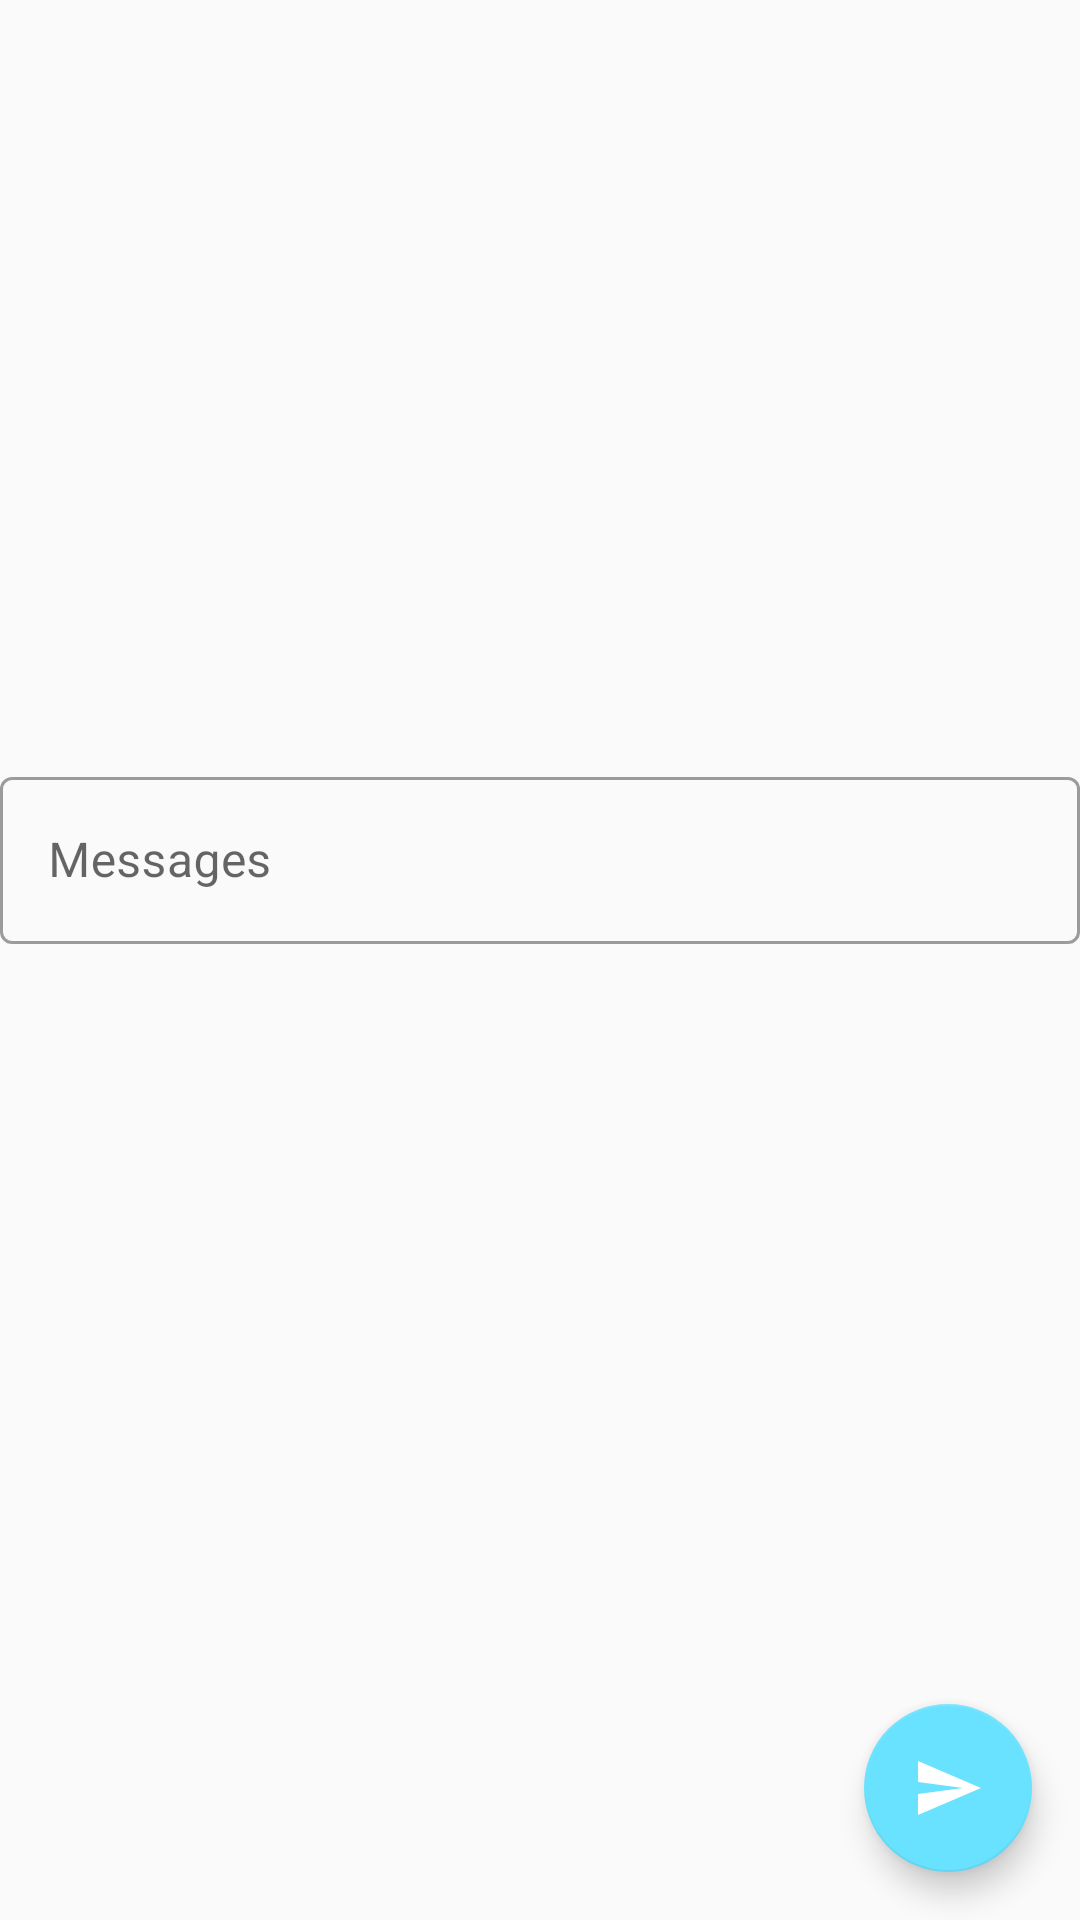

Screen size 1080px×1920px. Icon name, then its box in pixels as (x1, y1, x2, y2):
send: (864, 1704, 1032, 1872)
